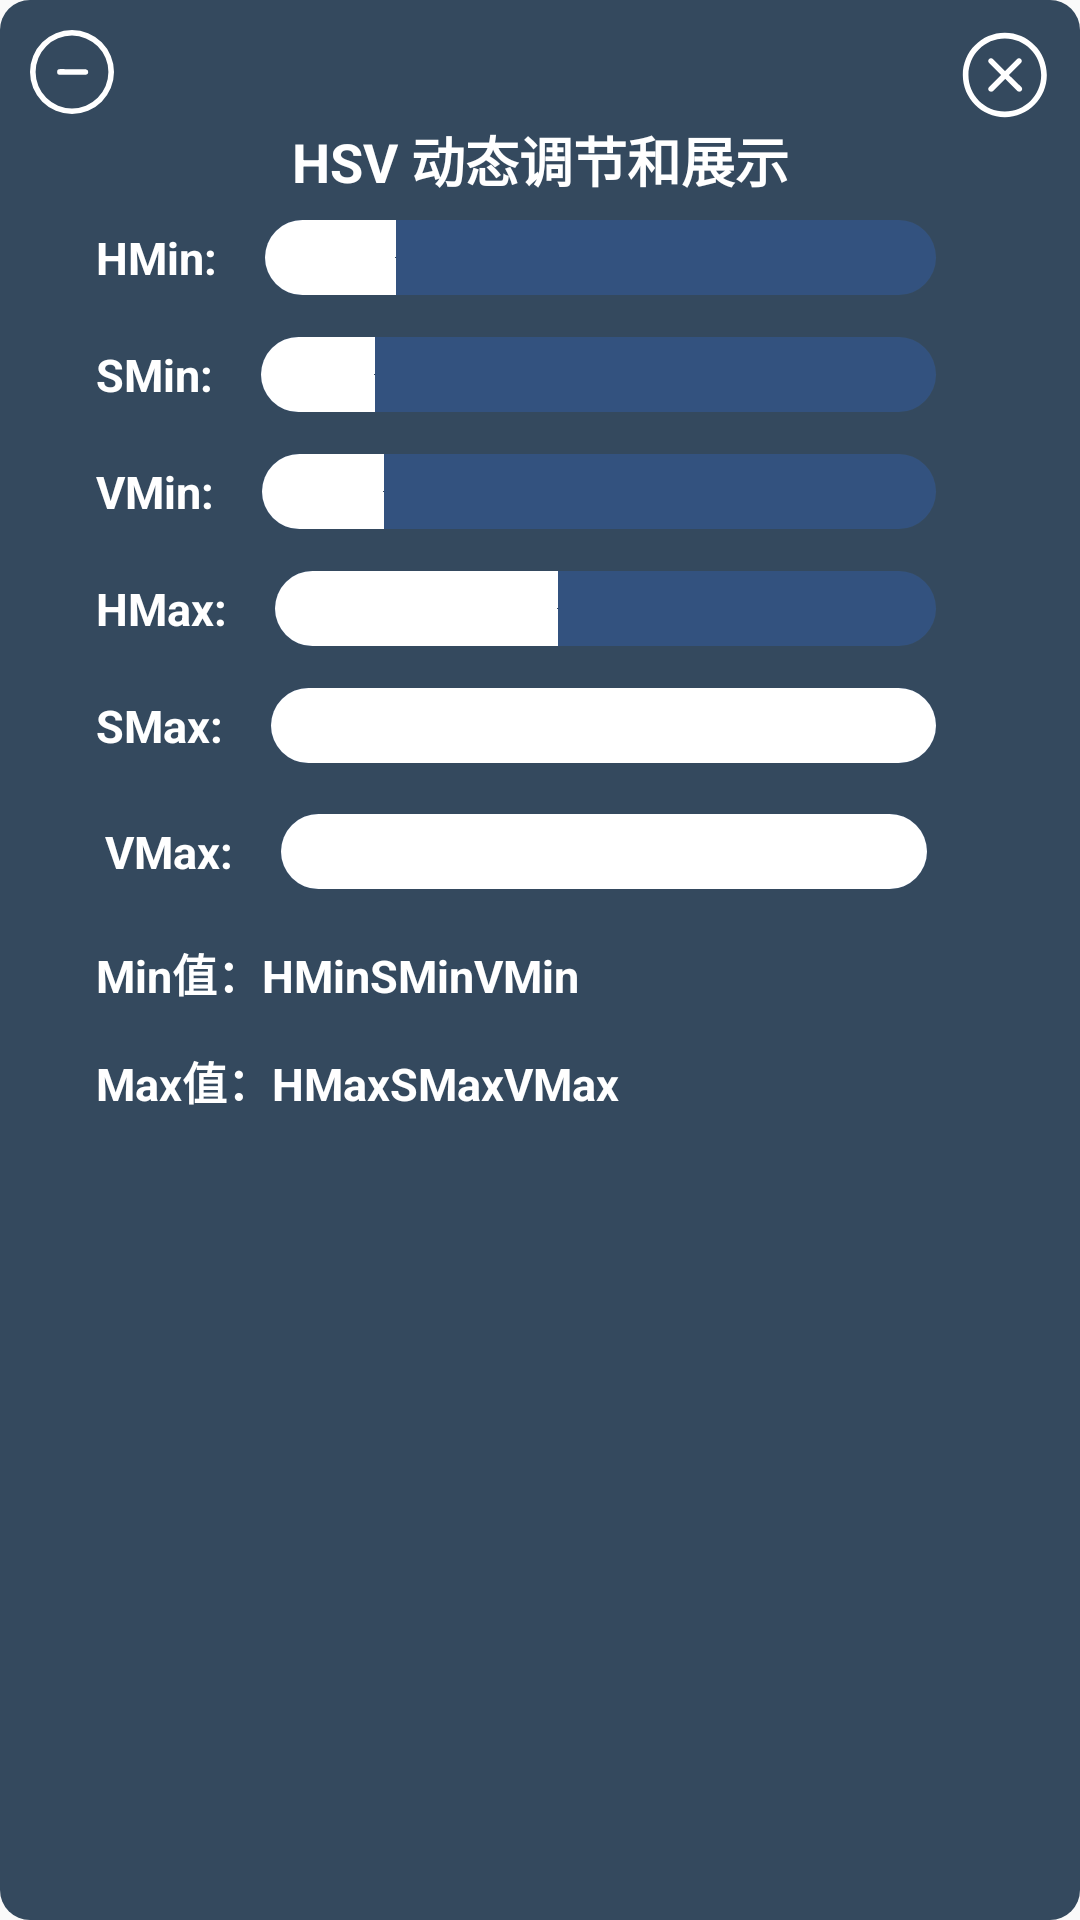

Locate icon controls on the screen. Image size 1080*1920, boxes as (x1, y1, x2, y2).
minimize: (30, 30, 114, 114)
关闭悬浮窗: (962, 32, 1047, 118)
